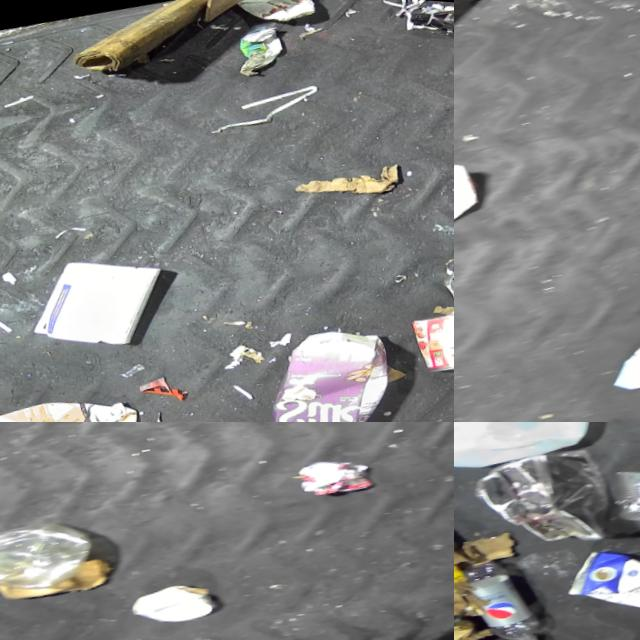can: (295, 440, 380, 499), (409, 290, 454, 372), (610, 446, 640, 528), (231, 0, 322, 26), (145, 627, 219, 640)
milk_jug: (454, 422, 606, 487), (454, 145, 488, 260)
non_white_jug: (249, 307, 415, 422), (0, 376, 148, 422)
plastic_bottle: (0, 502, 108, 609), (454, 546, 549, 640)
